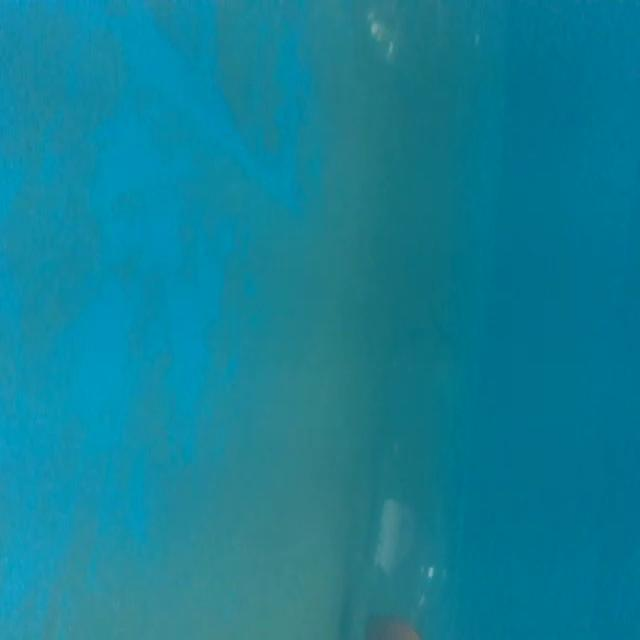plastic bottle: (341, 326, 486, 640)
